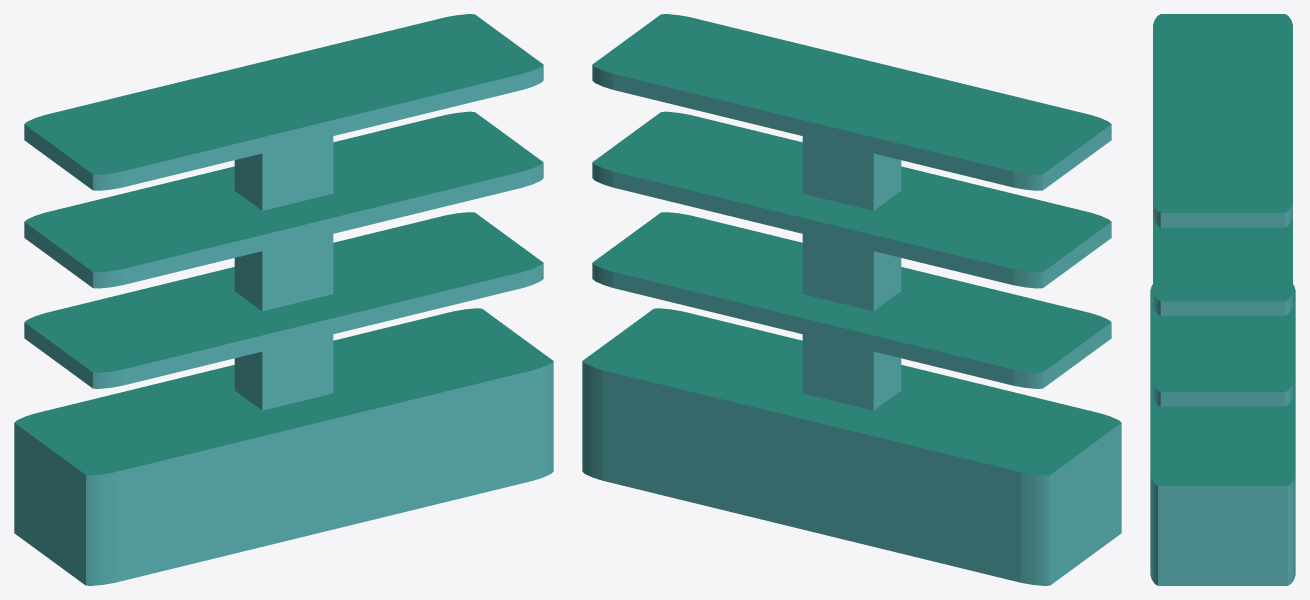
File: Rak Game.FBX
The picture shows the model from 3 angles, left to right: view 1: azimuth 30°, elevation 25°; view 2: azimuth 150°, elevation 25°; view 3: azimuth 270°, elevation 25°; orthographic projection. The views are drawn at different scales.
Parts seen in each view (by area): view 1: Plane002; view 2: Plane002; view 3: Plane002.
Boxes of the visible parts, x1,y1,x2,y2 form: Plane002: (14, 14, 553, 585); Plane002: (582, 14, 1121, 585); Plane002: (1150, 14, 1295, 585).
Bounding box in the file's own units: 101 × 84.19 × 30.
